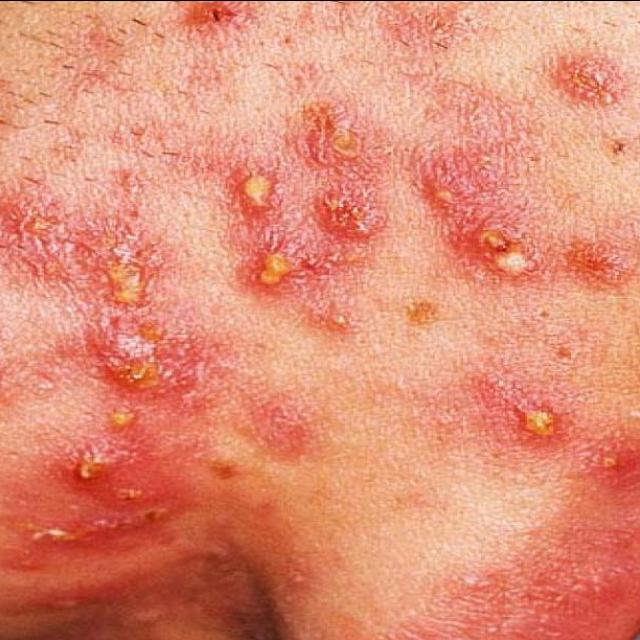pustule: (40, 105, 572, 573), (451, 364, 594, 476)
